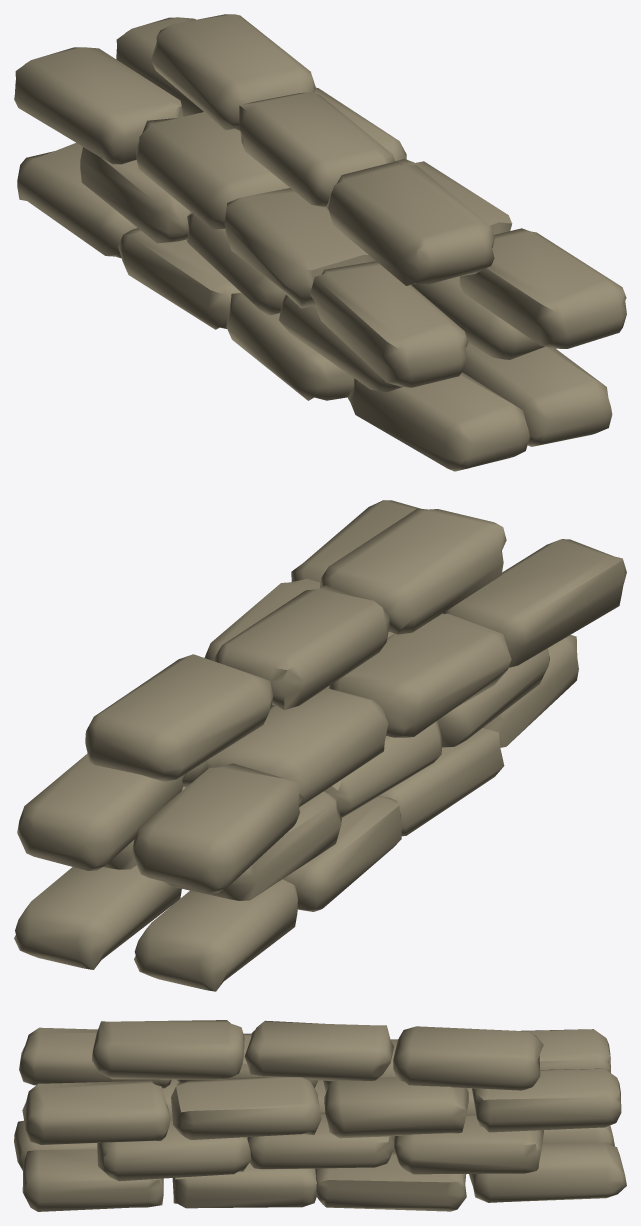
Rendered from ZR_Sandbags.fbx.
The picture shows the model from 3 angles, top to bottom: view 1: azimuth 30°, elevation 25°; view 2: azimuth 150°, elevation 25°; view 3: azimuth 270°, elevation 25°; orthographic projection. The views are drawn at different scales.
Parts seen in each view (by area): view 1: ZR_Sandbags; view 2: ZR_Sandbags; view 3: ZR_Sandbags.
Boxes of the visible parts, box(x1,y1,x2,y2) form: ZR_Sandbags: box(14, 14, 626, 471); ZR_Sandbags: box(14, 500, 626, 991); ZR_Sandbags: box(14, 1020, 626, 1211).
Bounding box in the file's own units: 0.8749 × 0.673 × 2.53.
